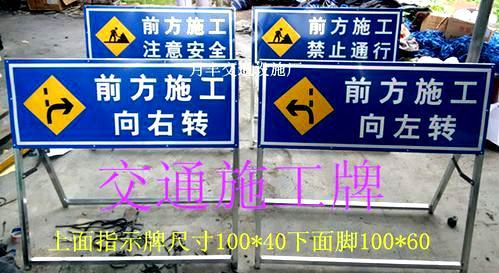sign: (262, 61, 484, 151), (8, 58, 234, 146), (86, 7, 234, 58), (254, 10, 395, 63)
